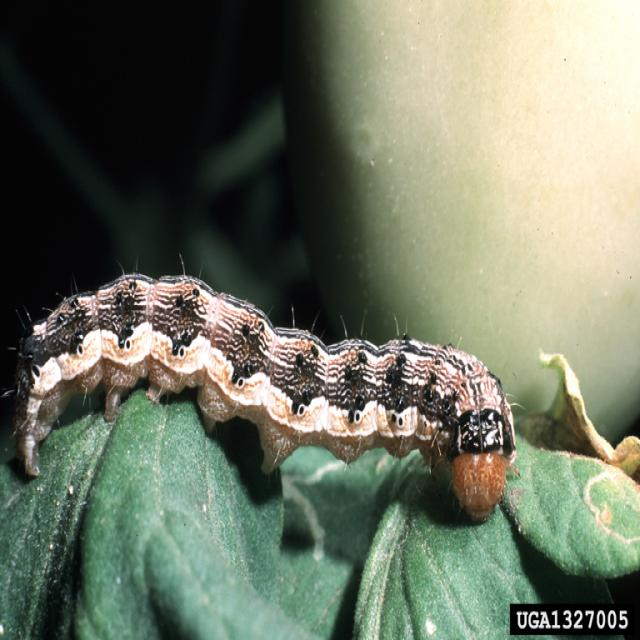worm: (8, 263, 522, 524)
